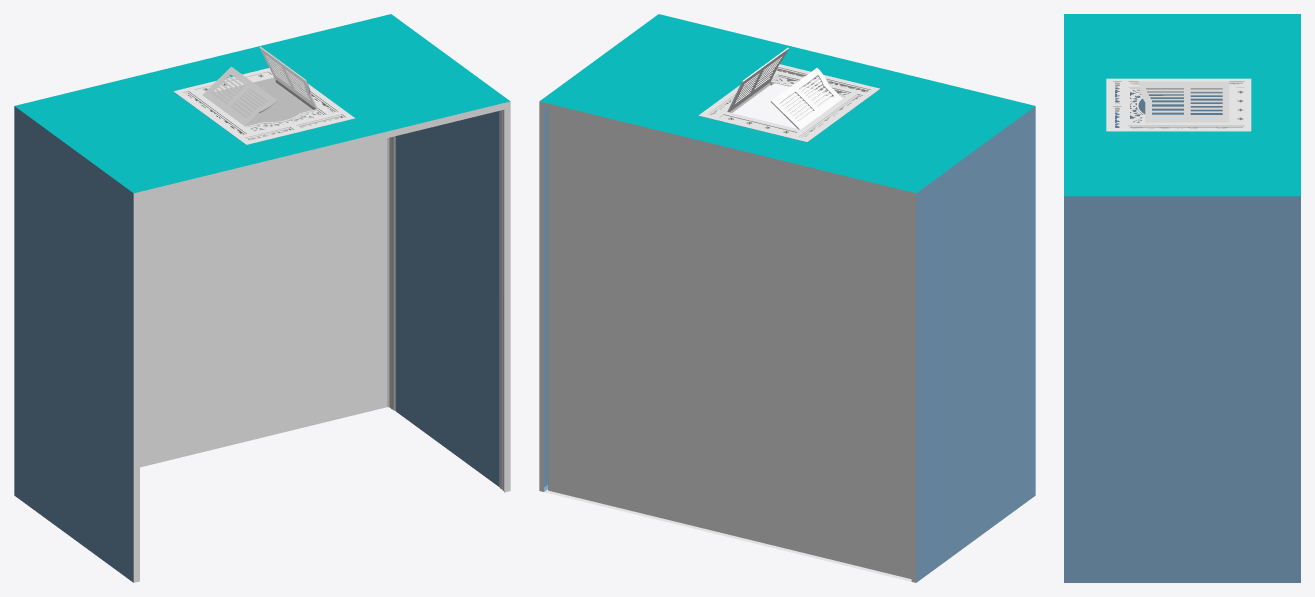
File: room17.obj
3 renders of one model, left to right at view 1: azimuth 30°, elevation 25°; view 2: azimuth 150°, elevation 25°; view 3: azimuth 270°, elevation 25°, orthographic.
Parts seen in each view (by area): view 1: room17; view 2: room17; view 3: room17.
Boxes of the visible parts, x1,y1,x2,y2 form: room17: [14, 14, 510, 582]; room17: [539, 14, 1035, 582]; room17: [1064, 14, 1300, 582].
Bounding box in the file's own units: 246 × 265 × 135.
